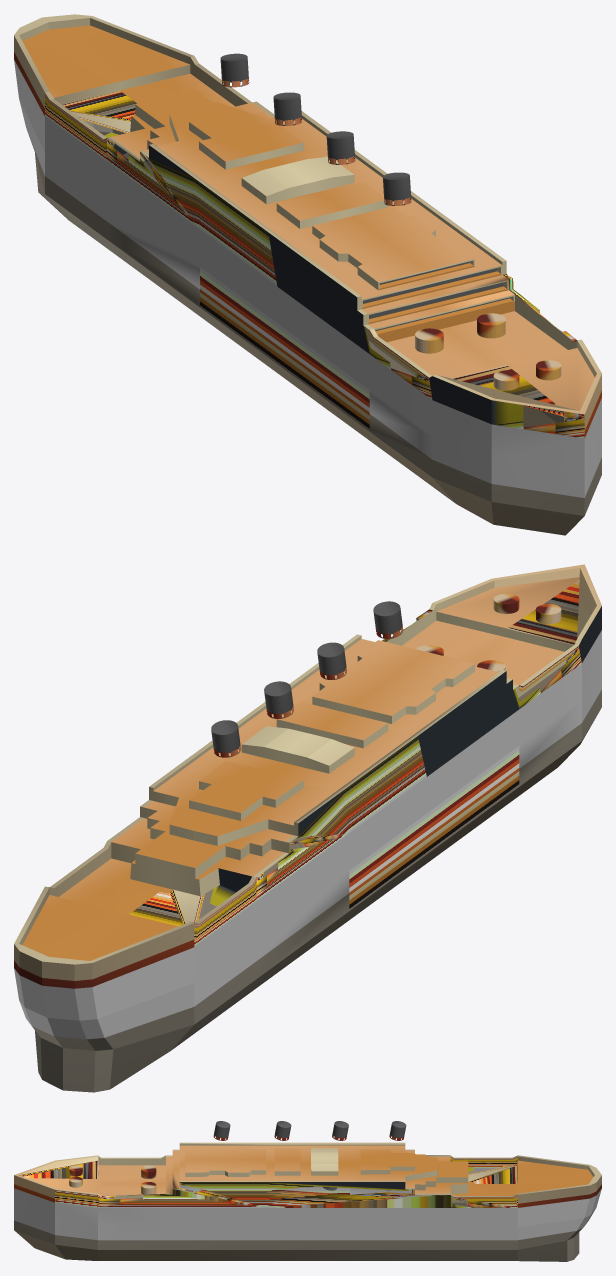
File: titanic.fbx
The picture shows the model from 3 angles, top to bottom: view 1: azimuth 30°, elevation 25°; view 2: azimuth 150°, elevation 25°; view 3: azimuth 270°, elevation 25°; orthographic projection. The views are drawn at different scales.
Parts seen in each view (by area): view 1: Titanic; view 2: Titanic; view 3: Titanic.
Part boxes in pixels (x1,y1,x2,y2): Titanic: (14, 14, 601, 535); Titanic: (14, 564, 601, 1092); Titanic: (14, 1121, 601, 1261).
Bounding box in the file's own units: 245 × 379 × 1538.
